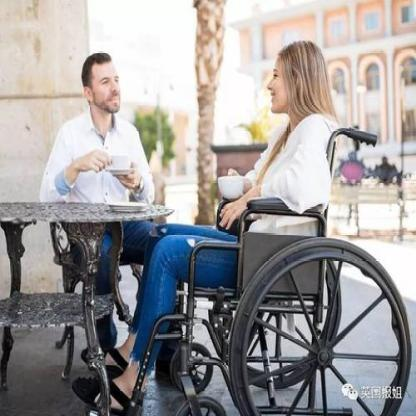wheelchair: (117, 32, 411, 415)
